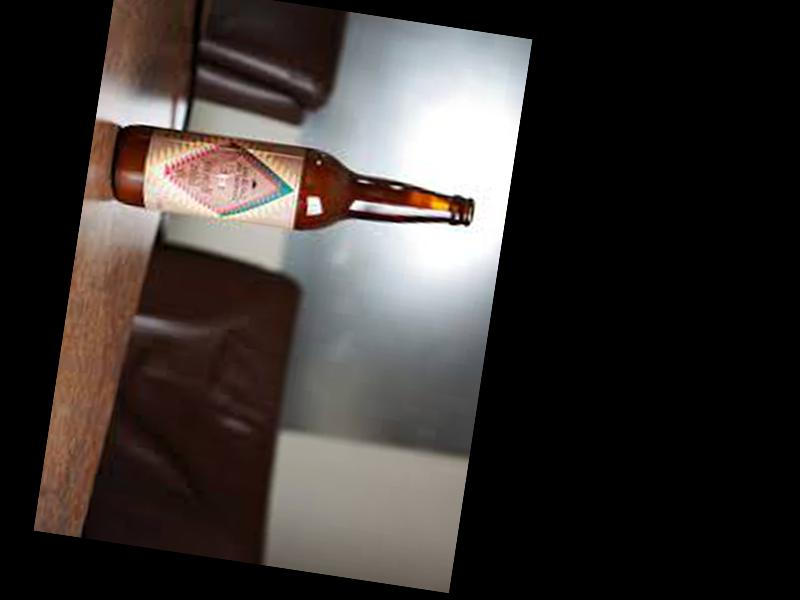Beer: (108, 121, 476, 253)
